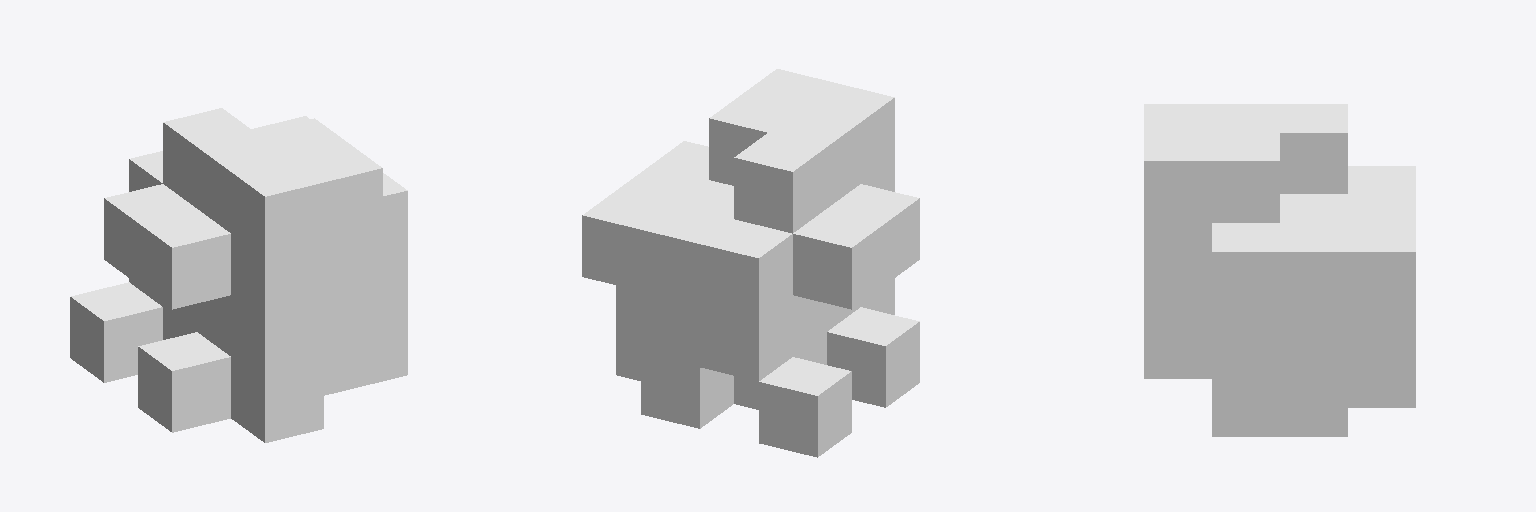
Rendered from FireAttack.obj.
3 views of the same model, side by side, from view 1: azimuth 30°, elevation 25°; view 2: azimuth 150°, elevation 25°; view 3: azimuth 270°, elevation 25° (orthographic).
Visible parts, largest first — view 1: object 1; view 2: object 1; view 3: object 1.
Part boxes in pixels (x1,y1,x2,y2): object 1: (70,108,407,442); object 1: (582,69,919,457); object 1: (1144,104,1415,436).
Bounding box in the file's own units: 0.4 × 0.4 × 0.4.